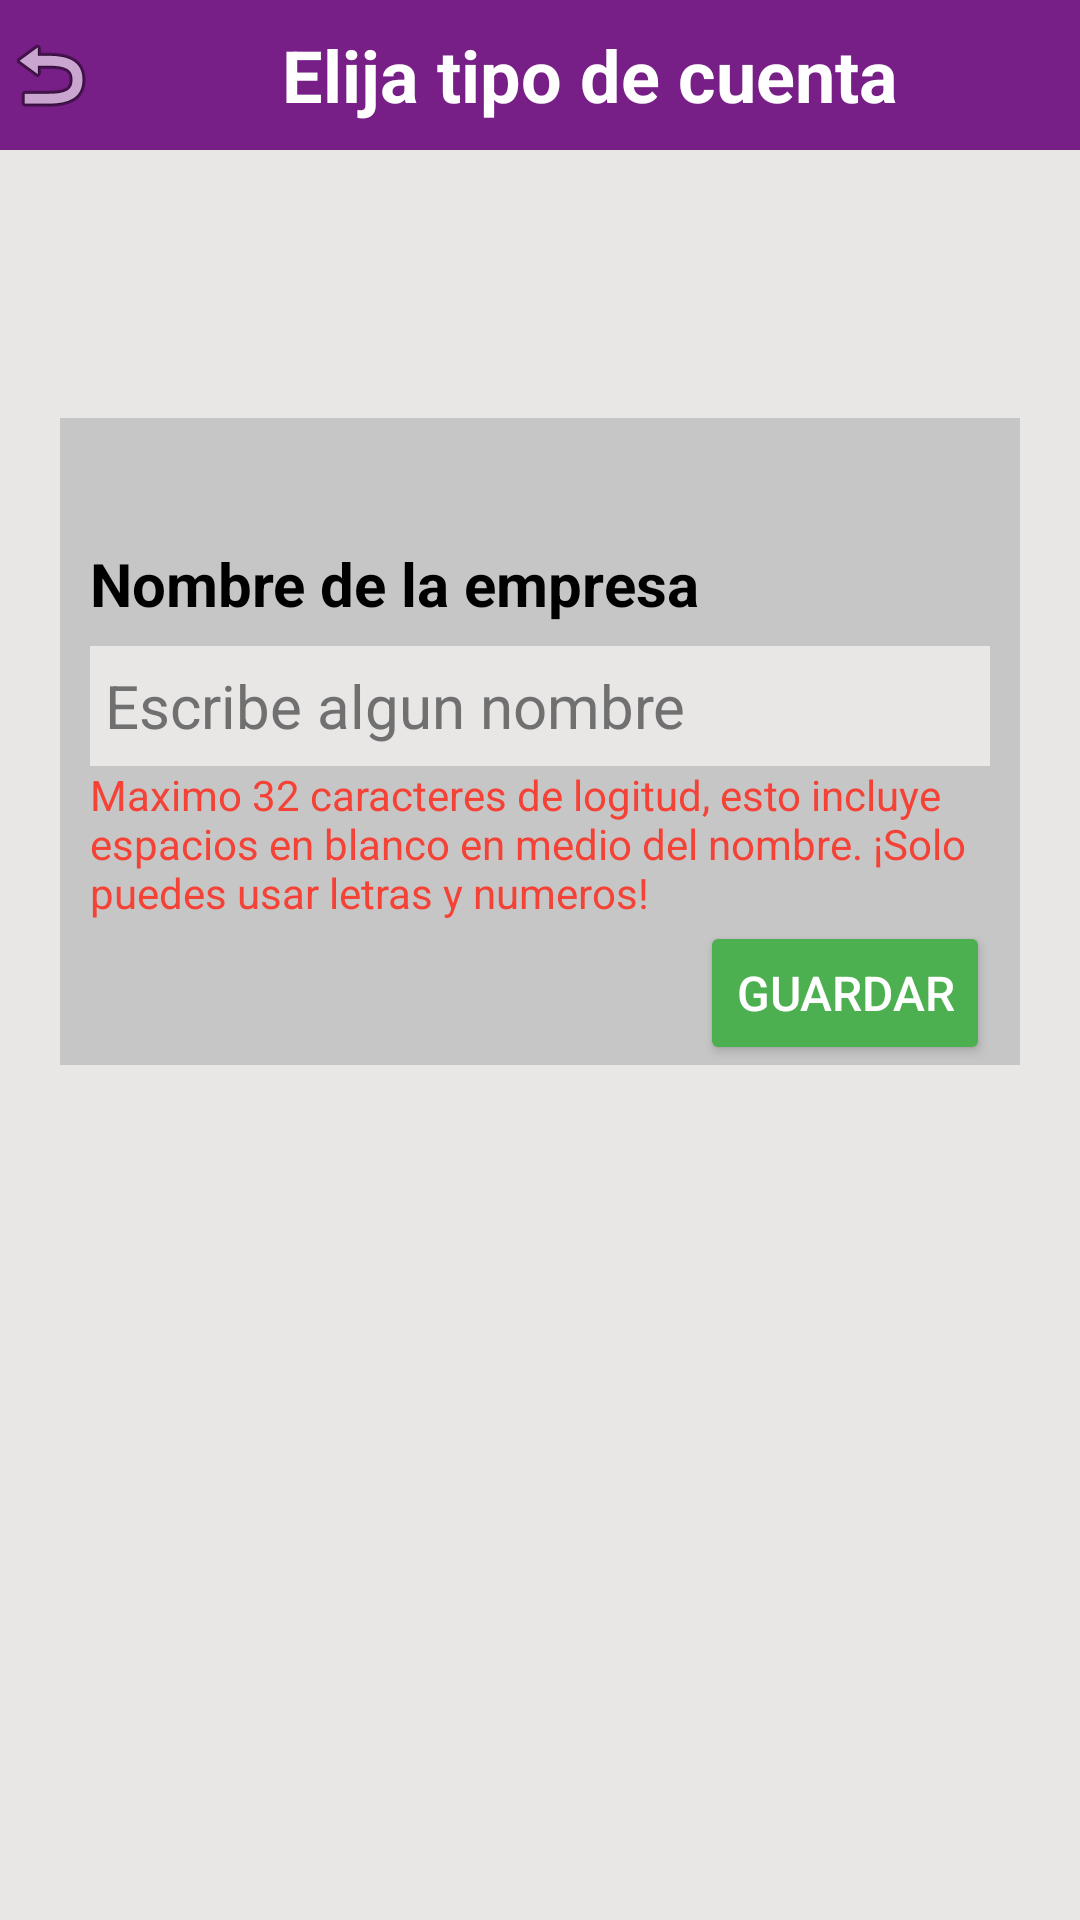

Point at icon controls on the screen. Image size 1080w x 1920h, points as (x,y).
revert: (51,76)
